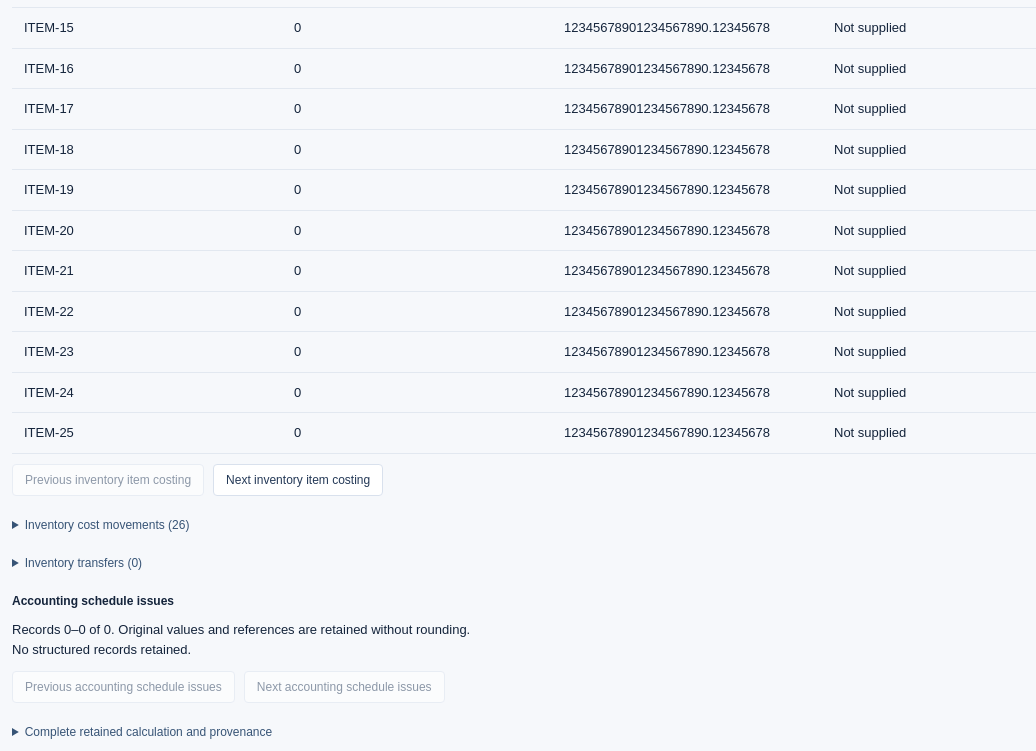
Test: retains every item, movement and later-only field with independent pages and exact values
(page scrolled)
Click the button "Next inventory item costing" at [298, 480], box [213,464,383,496]
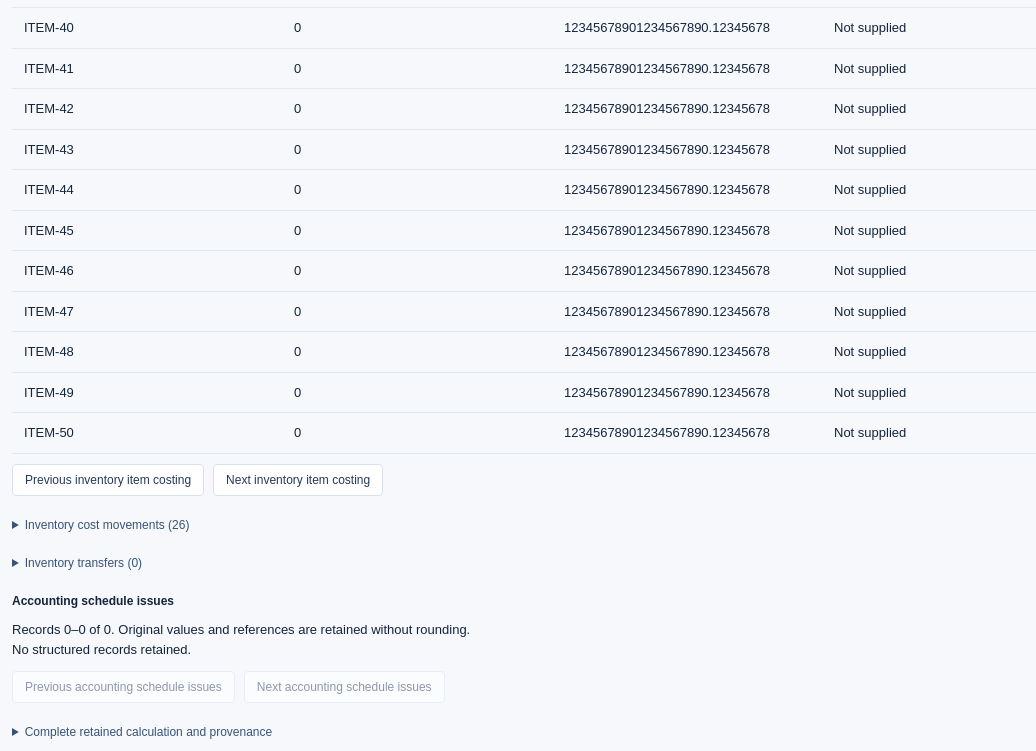
Click the button "Next inventory item costing" at [298, 480], box [213,464,383,496]
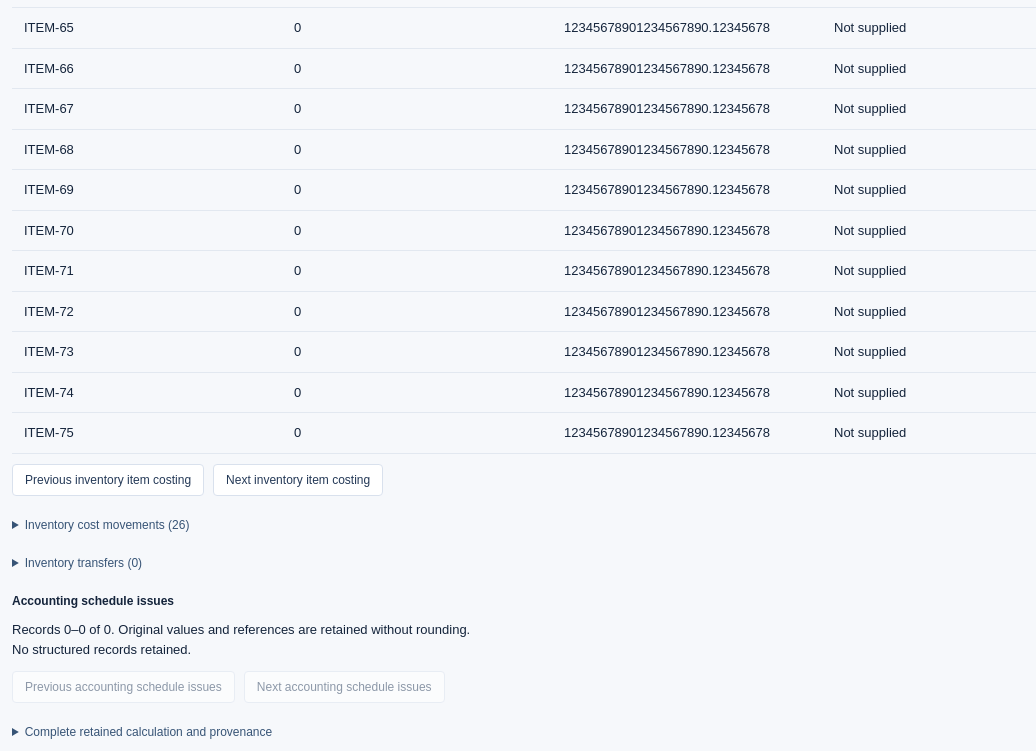
Click the button "Next inventory item costing" at [298, 480], box [213,464,383,496]
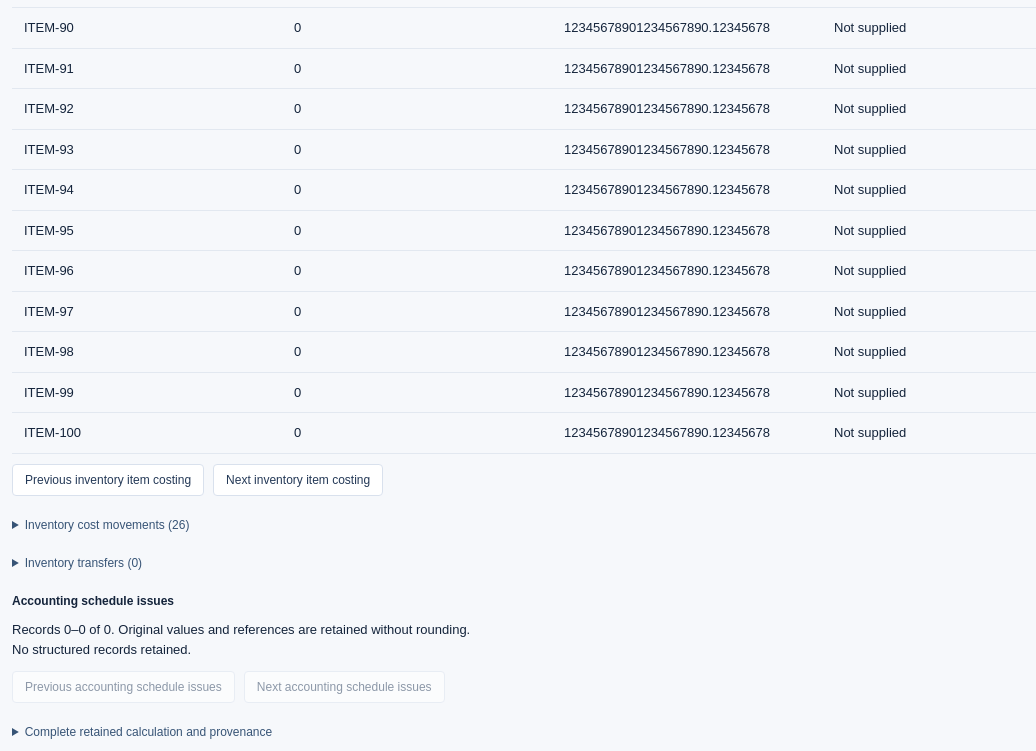
Click the button "Next inventory item costing" at [298, 480], box [213,464,383,496]
(page scrolled)
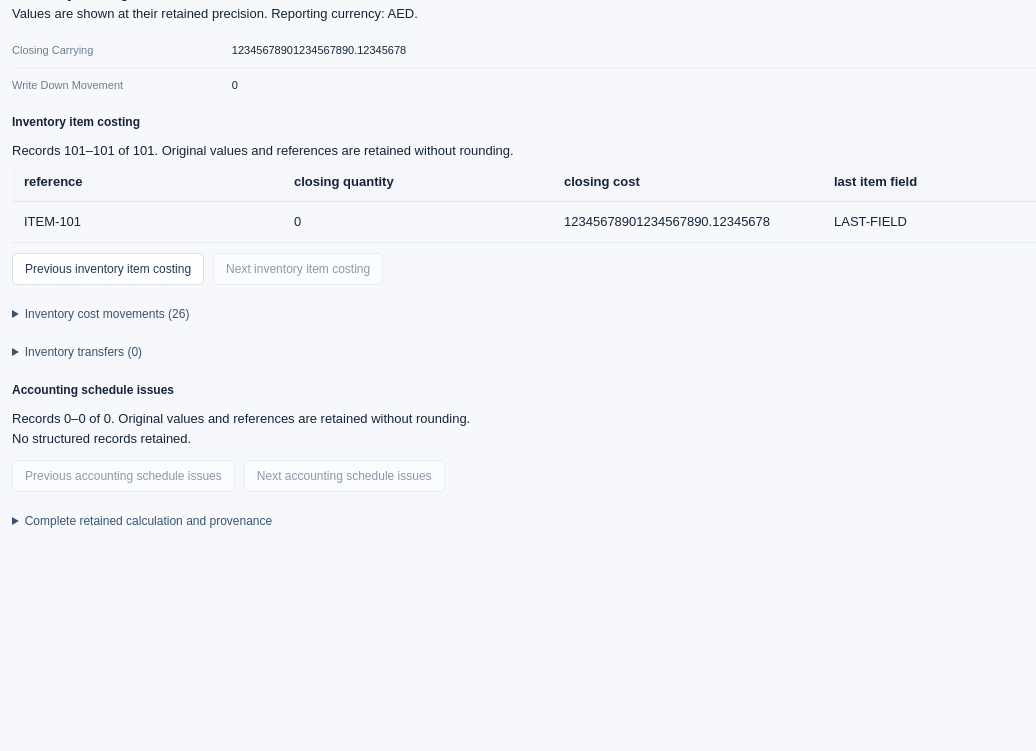
Expected: the cell "12345678901234567890.12345678" is shown, [552,202,822,242]
Expected: the cell "ITEM-101" is shown, [12,202,282,242]
Expected: the cell "LAST-FIELD" is shown, [822,202,1035,242]
Click the heading "Inventory cost movements (26)" at [107, 314], box [25,307,190,321]
(page scrolled)
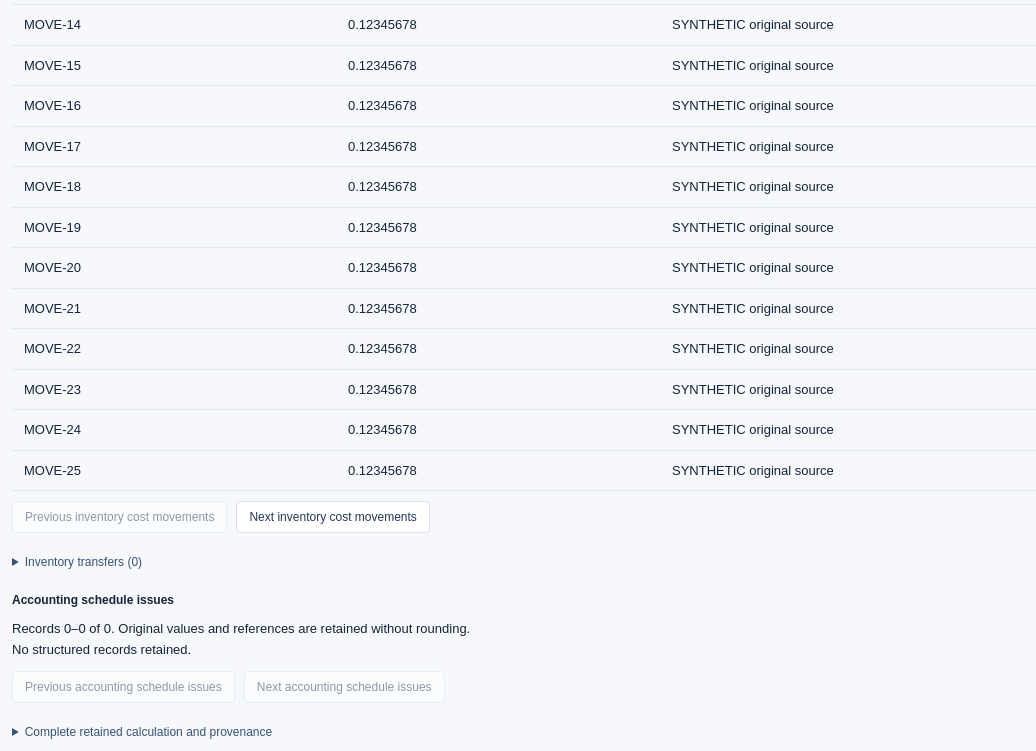
Click the button "Next inventory cost movements" at [333, 517], box [236,501,430,533]
(page scrolled)
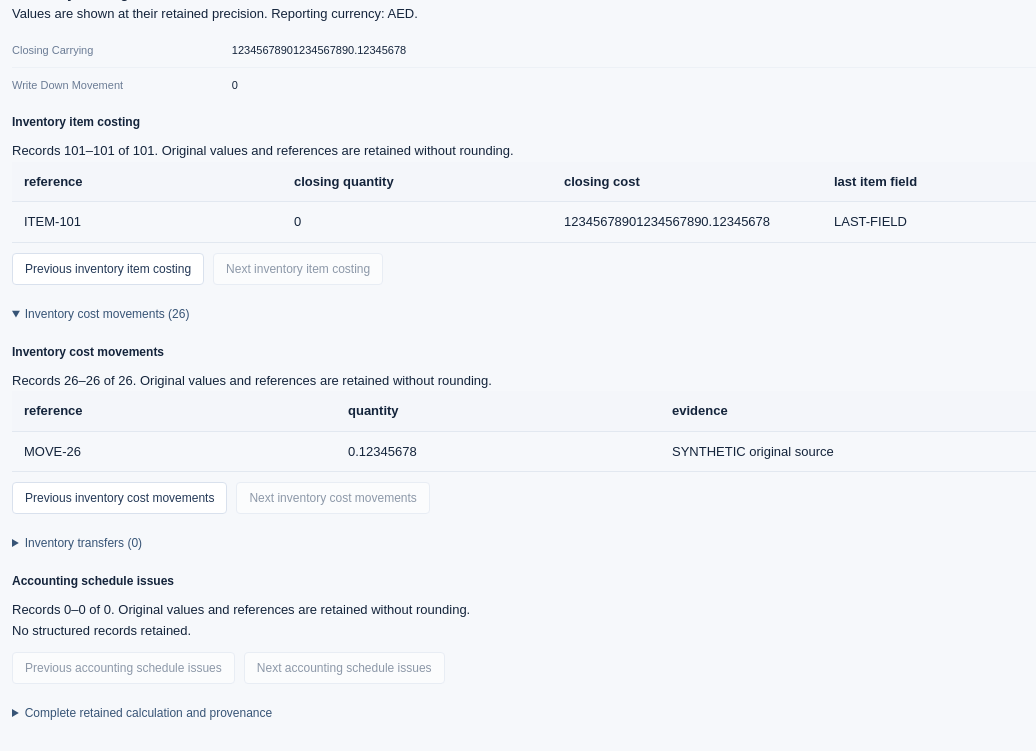
Expected: the cell "ITEM-101" is shown, [12,202,282,242]
Expected: the cell "MOVE-26" is shown, [12,431,336,472]
